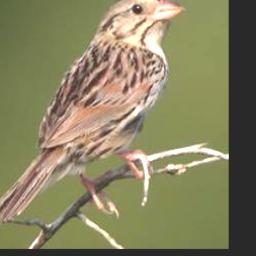Sparrow: (0, 0, 186, 225)
